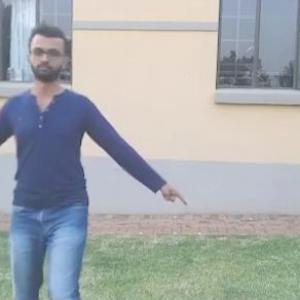land: (1, 45, 182, 299)
